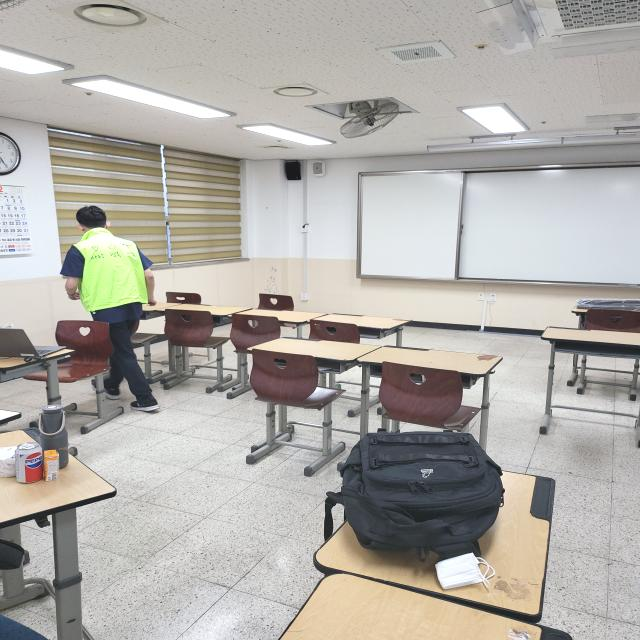weston_spy: (65, 222, 158, 316)
